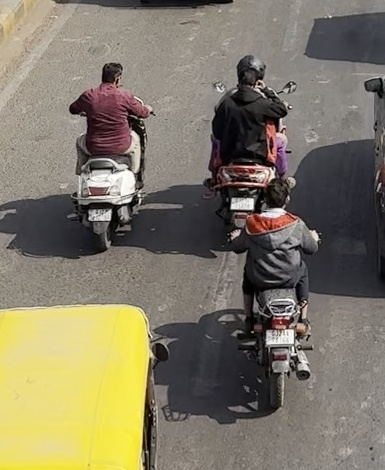BikeWithRider: (221, 175, 323, 410), (203, 51, 299, 251), (67, 59, 157, 253)
Helmet: (236, 52, 266, 84)
NoHelmet: (263, 176, 293, 213), (100, 61, 124, 89), (237, 67, 259, 96)
